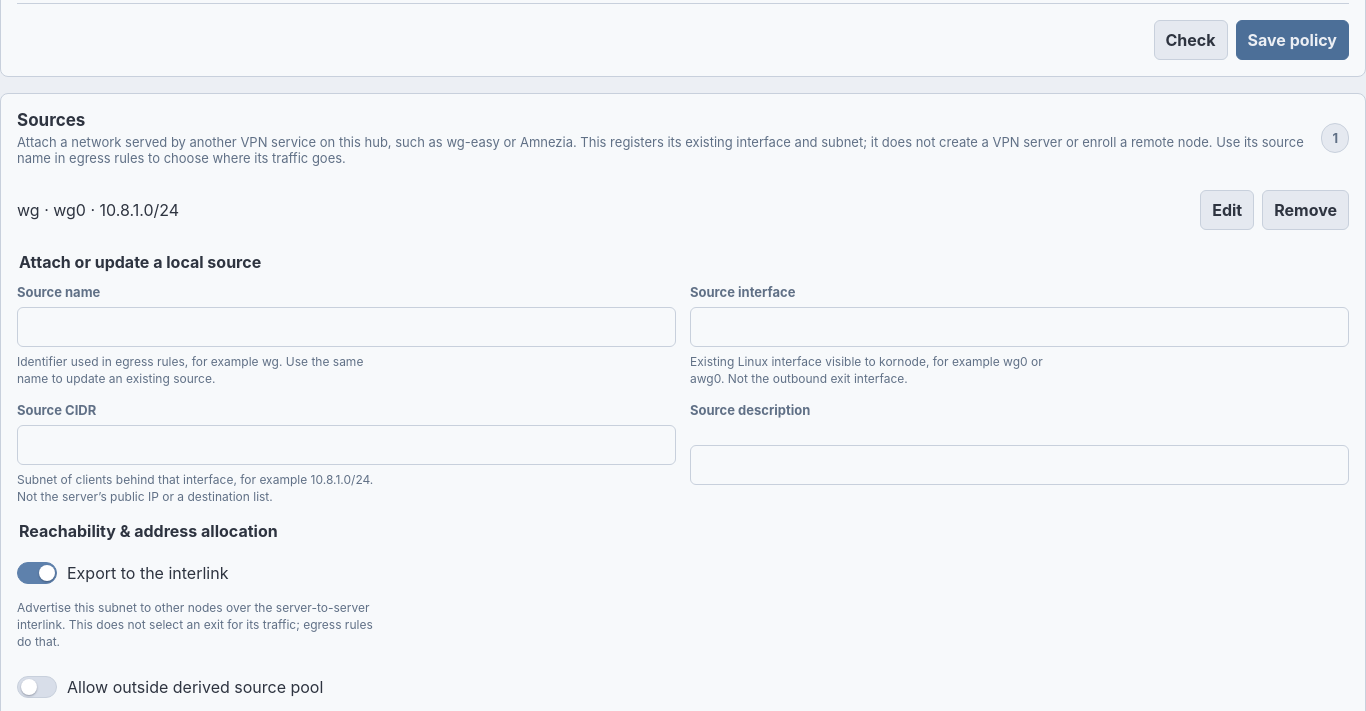
Networks hub tasks › preserves structured policy and source drafts across navigation, including keyboard navigation
The width and height of the screenshot is (1366, 711).
(page scrolled)
Check: the text "wg · wg0 · 10.8.1.0/24" is shown, box [17,200,179,220]
In the field labelled "Source name": (346, 327) [17,307,676,347], type "amnezia"
(page scrolled)
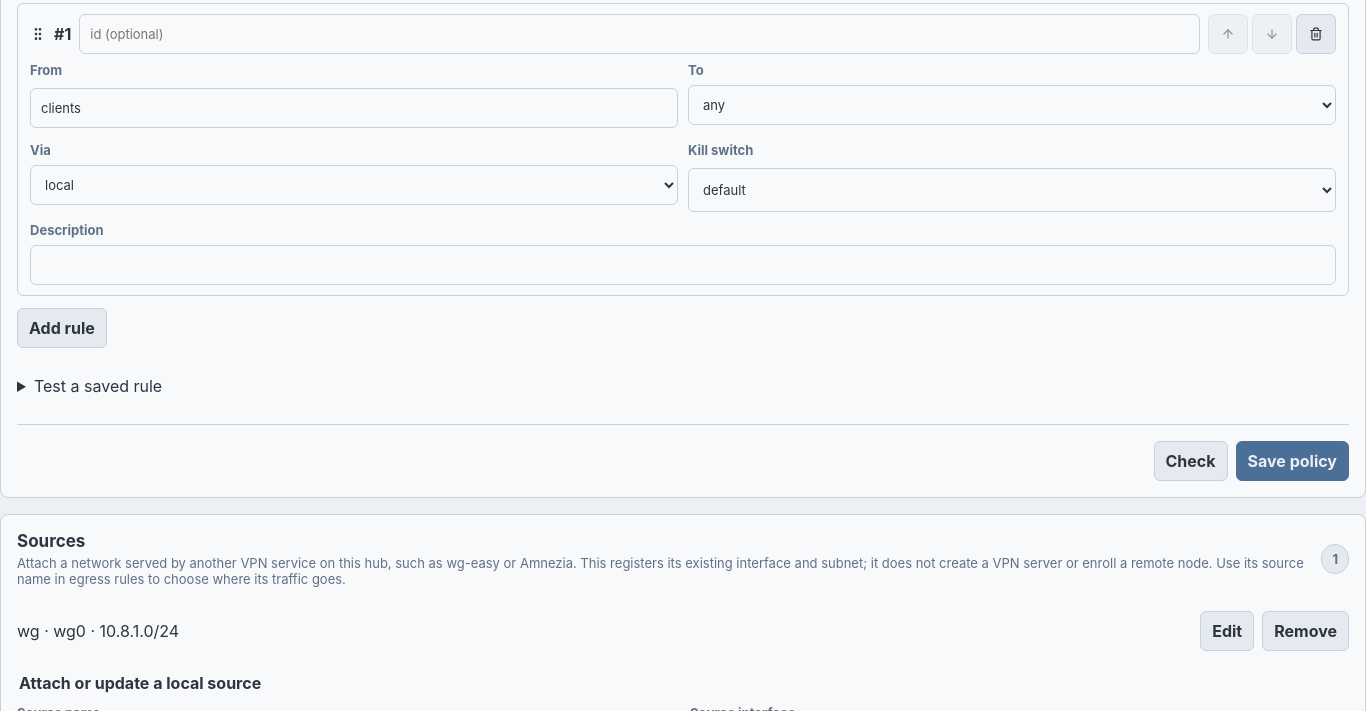
Click the button "Add rule": (62, 328) [17,308,107,348]
(page scrolled)
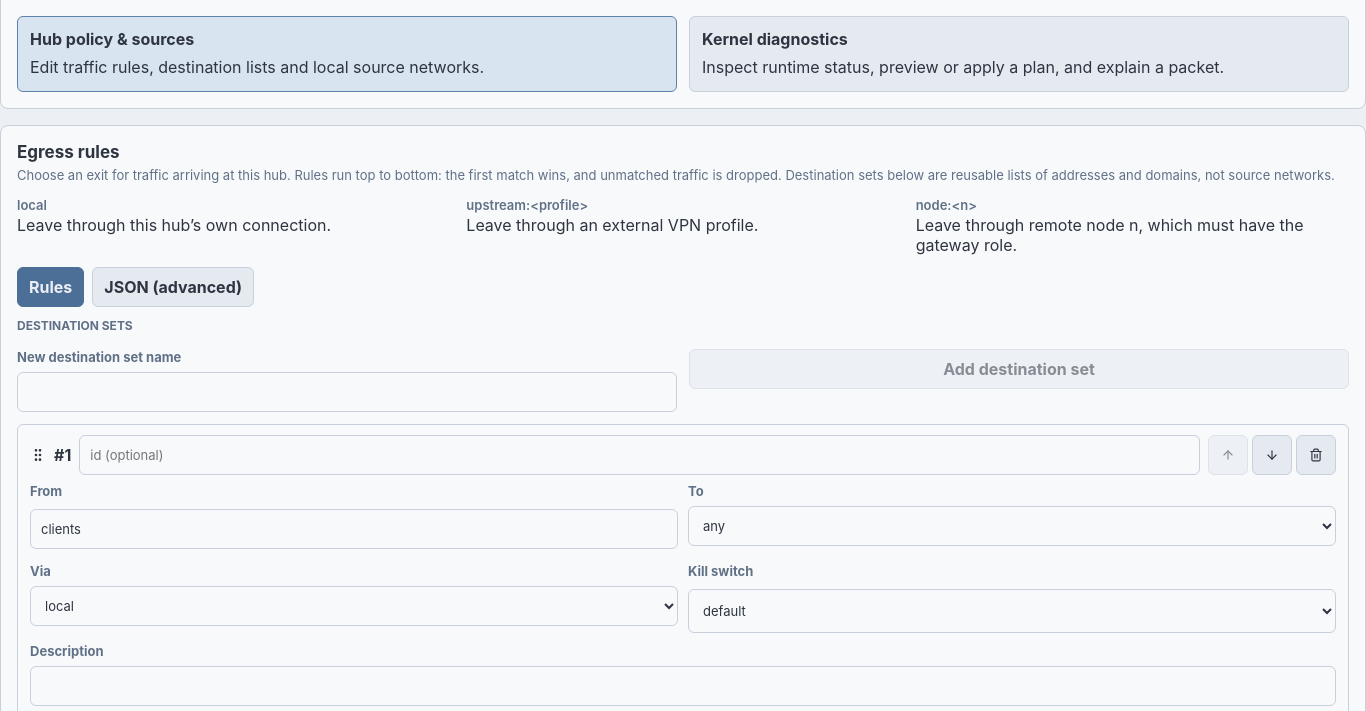
Click the button "Kernel diagnostics": (1019, 54) [689,16,1349,92]
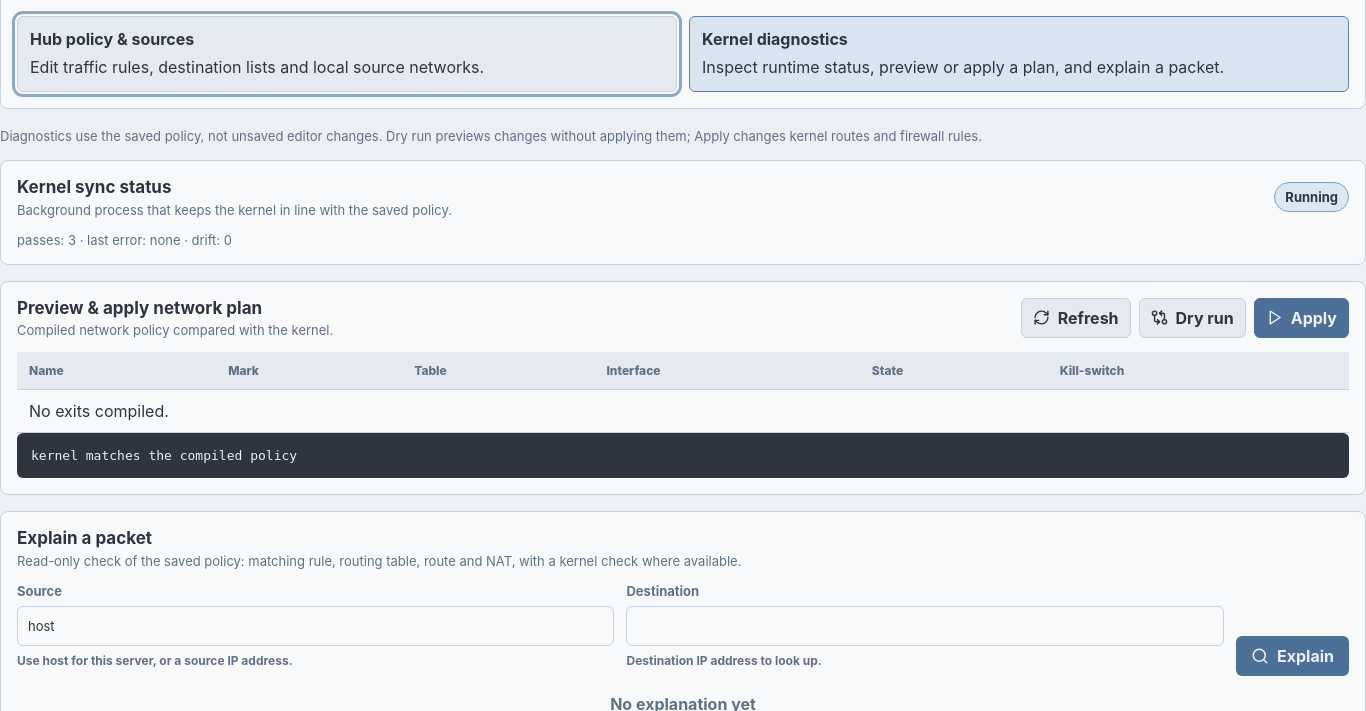
Press Enter
(page scrolled)
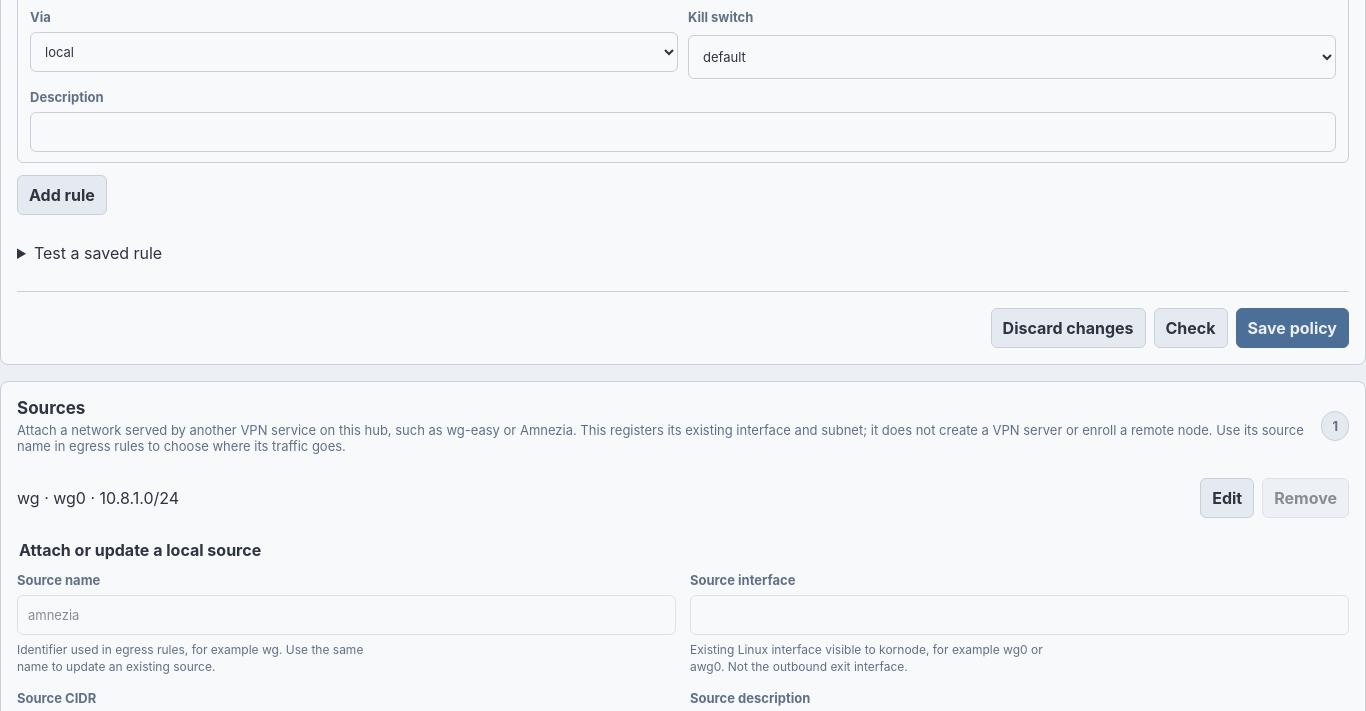
Check: the button "Save policy" is shown, box [1236,308,1349,348]
